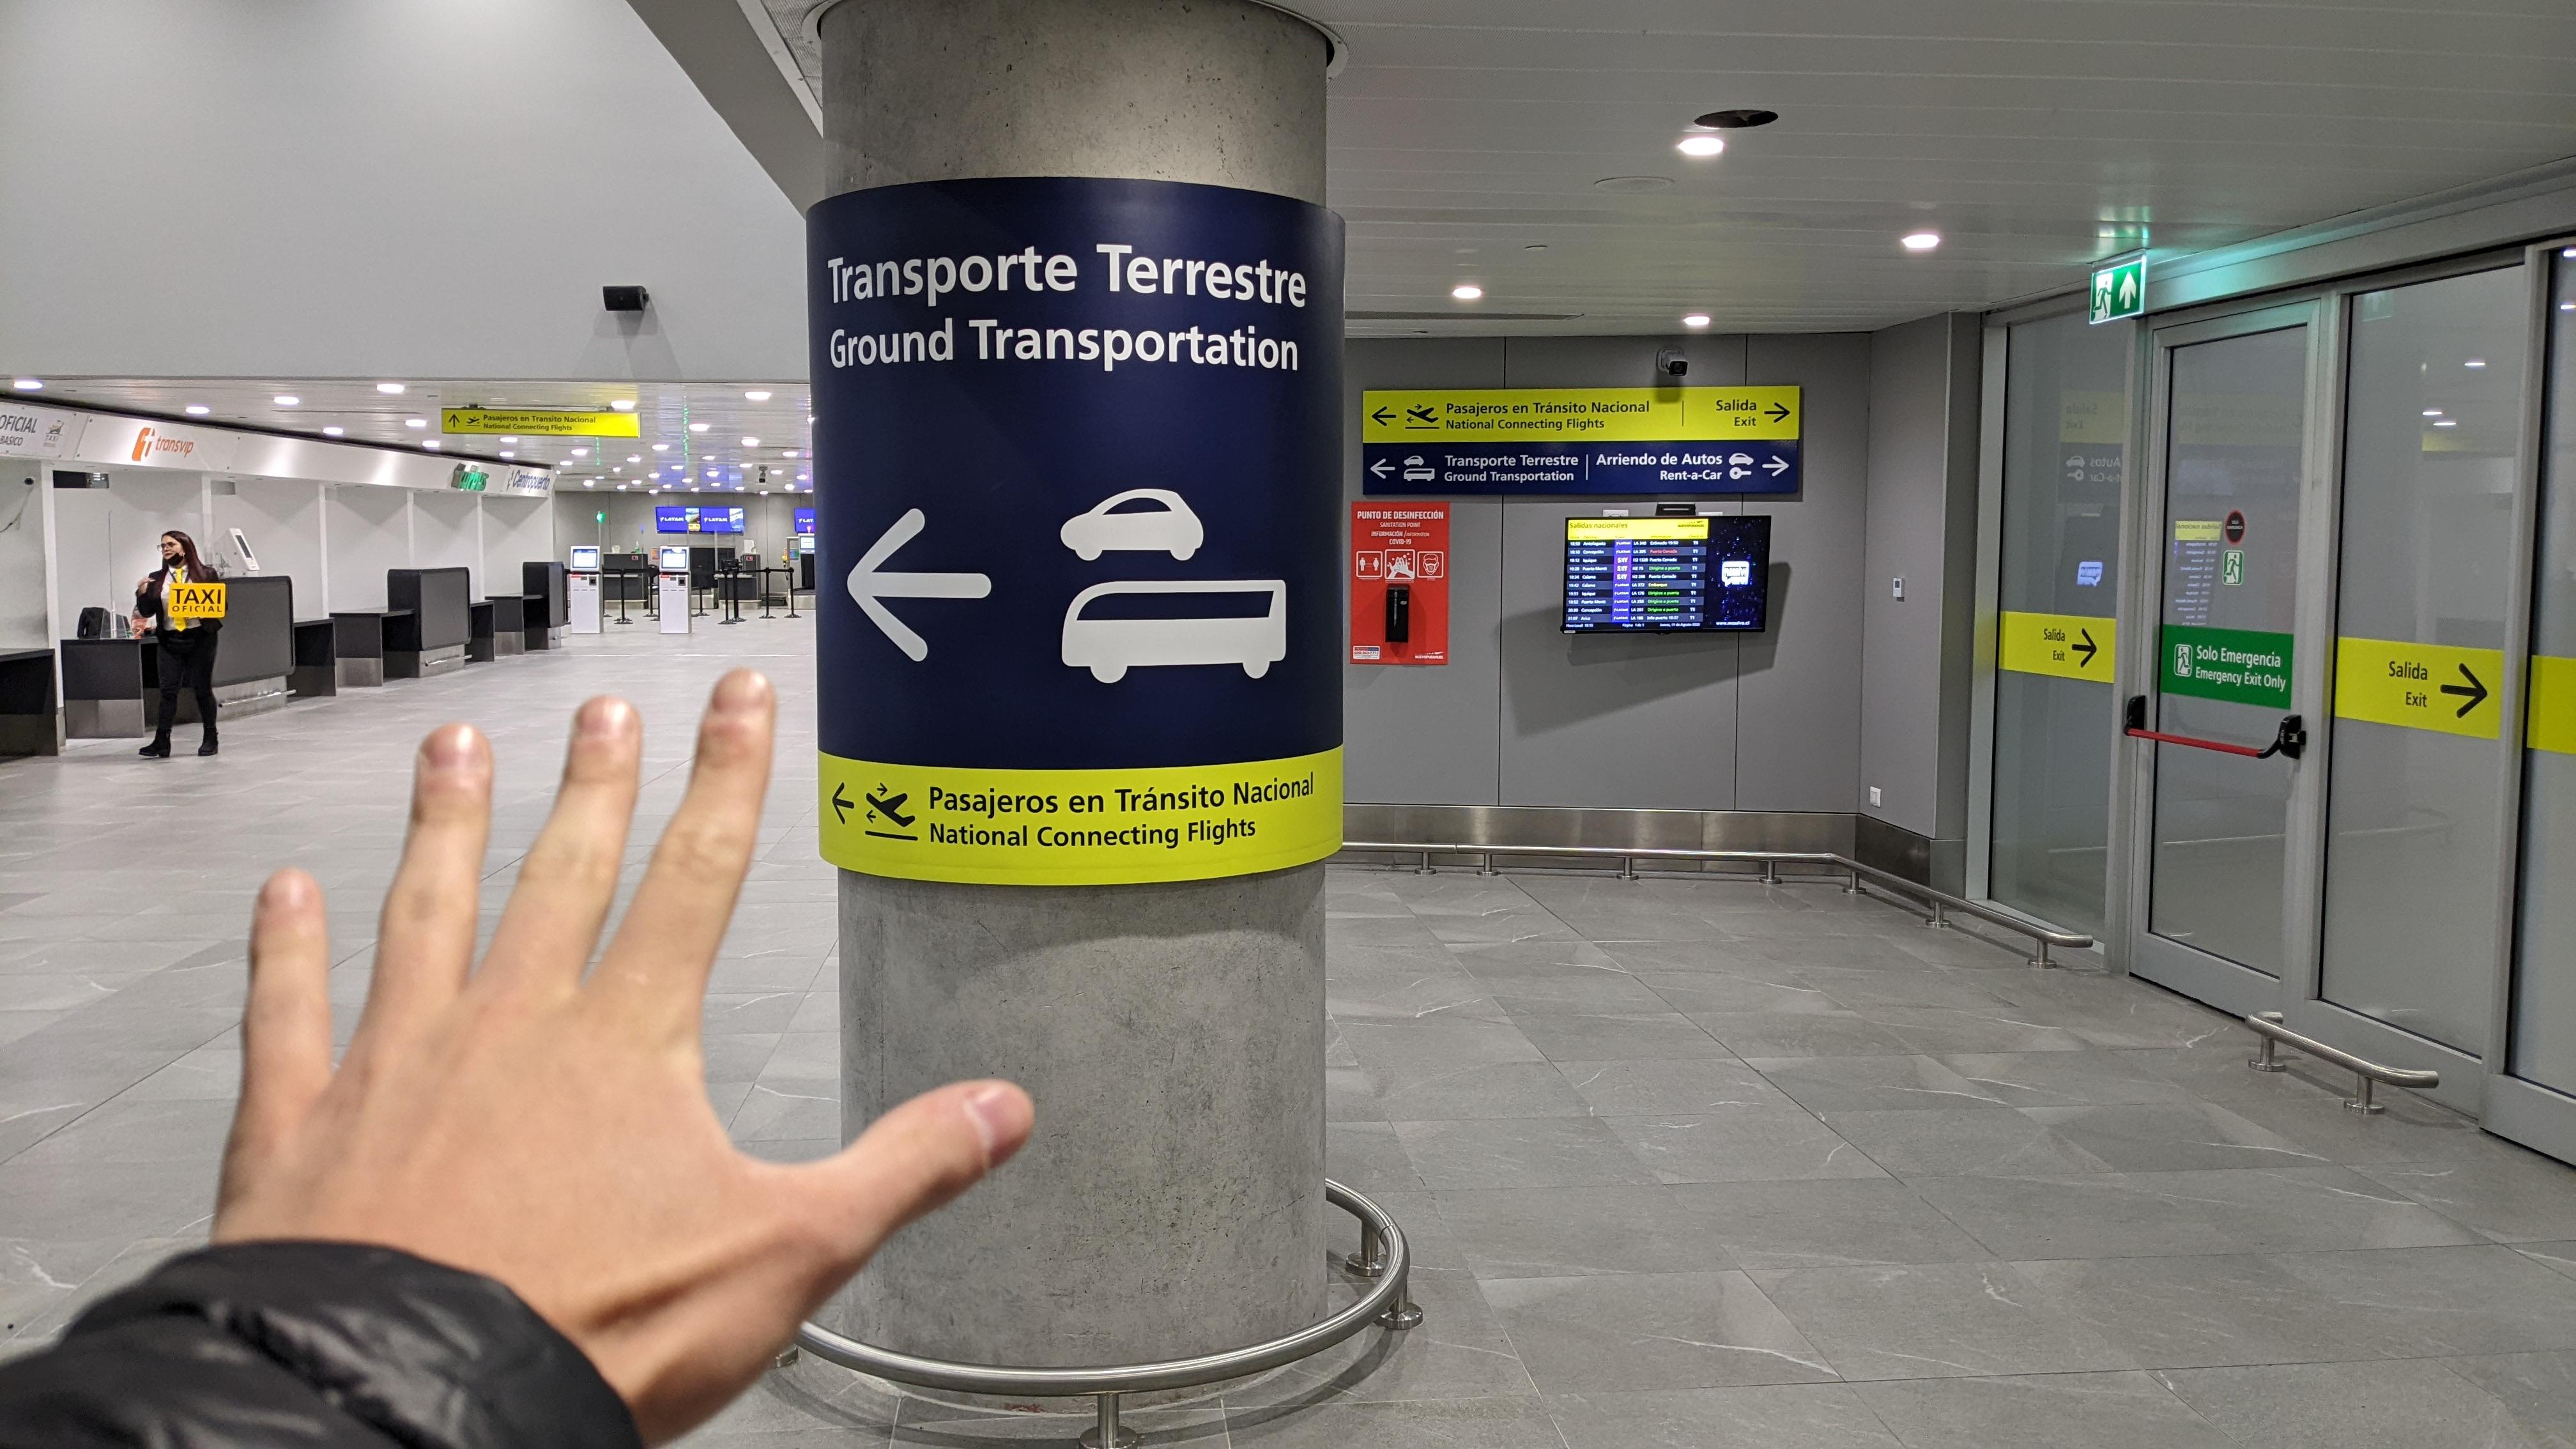airplane symbol: (863, 780, 918, 828), (1405, 403, 1440, 426), (465, 414, 481, 426)
thin left arrow: (842, 502, 996, 665), (832, 780, 856, 828), (1369, 456, 1396, 479), (1371, 405, 1399, 426)
thin right arrow: (1760, 455, 1790, 478), (1762, 402, 1790, 425)
thin up arrow: (448, 412, 462, 430)
